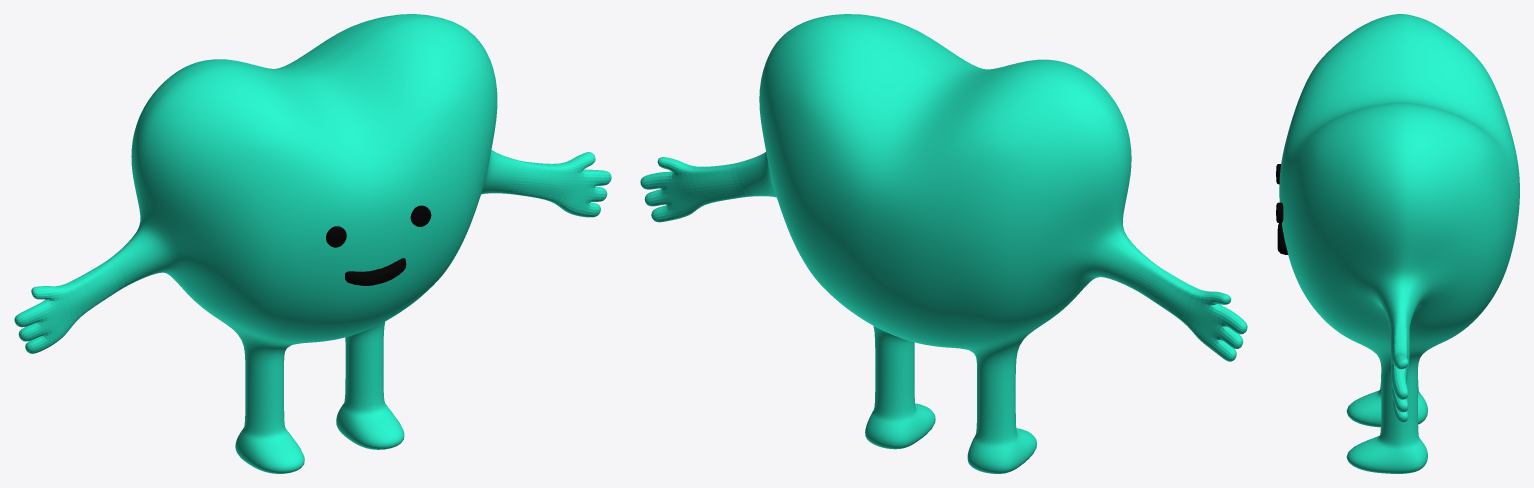
File: ch3_happy.fbx
3 views of the same model, side by side, from view 1: azimuth 30°, elevation 25°; view 2: azimuth 150°, elevation 25°; view 3: azimuth 270°, elevation 25° (orthographic). The views are drawn at different scales.
Parts seen in each view (by area): view 1: 물아기; view 2: 물아기; view 3: 물아기.
Part boxes in pixels (left/top/right/bottom): 물아기: left=14, top=14, right=611, bottom=473; 물아기: left=640, top=14, right=1247, bottom=473; 물아기: left=1276, top=14, right=1519, bottom=473.
Bounding box in the file's own units: 174 × 112 × 65.68.
